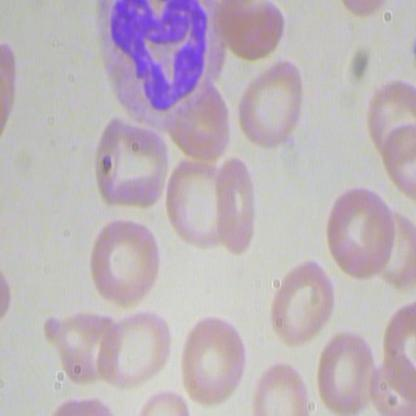RBC: (93, 114, 174, 213), (87, 214, 162, 311), (231, 54, 306, 151), (263, 249, 337, 346), (324, 183, 398, 280), (167, 156, 242, 251), (94, 306, 177, 391), (43, 302, 122, 387), (179, 315, 249, 409), (314, 327, 379, 415), (211, 154, 258, 256), (211, 1, 287, 63)
WBC: (86, 1, 227, 138)
